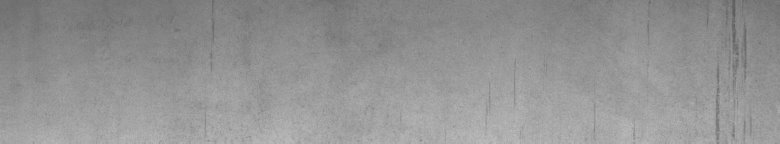ka: (712, 4, 750, 136)
